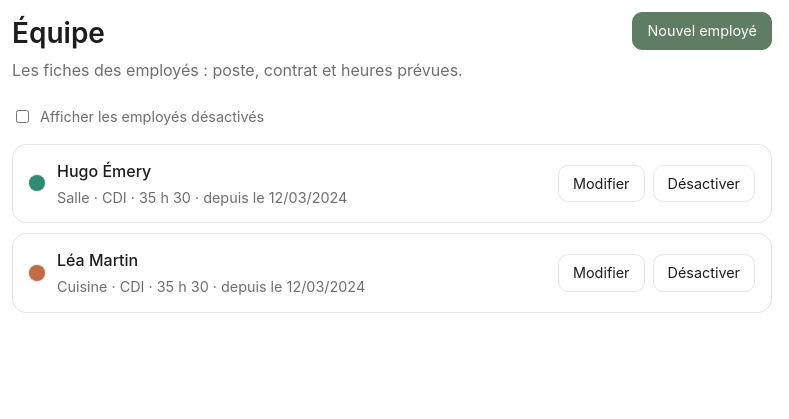
Test: team page › shows the deactivated employees on demand
Click the checkbox labelled "Afficher les employés désactivés".
click(22, 117)  # box [16, 110, 29, 123]
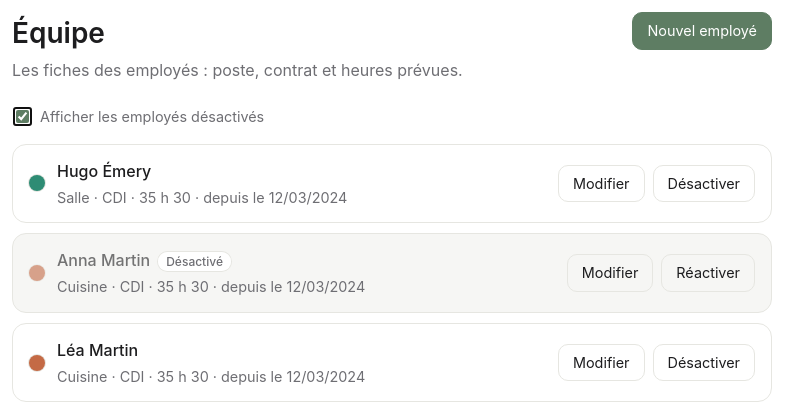
Expected: the text "Désactivé" is shown, [158, 252, 231, 271]
